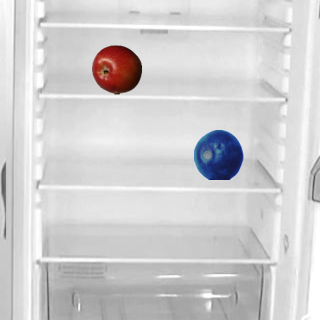Apple Braeburn: (91, 44, 141, 94)
Huckleberry: (193, 129, 243, 179)
